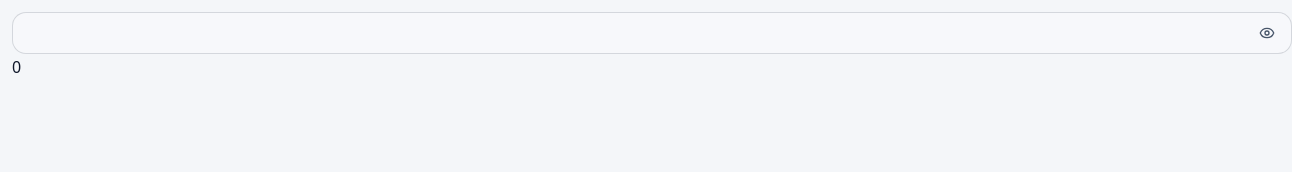
Scenario: PasswordInput › is a controlled-friendly input (the parent owns the value)
This screenshot has width=1292, height=172.
Type "abc123" into the password field named "Secret" at (633, 33), box [25,13,1241,53]
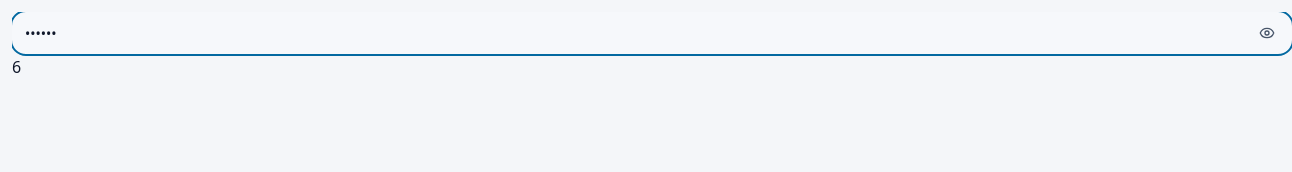
Now the text "6" is shown, box [12,56,21,78]
